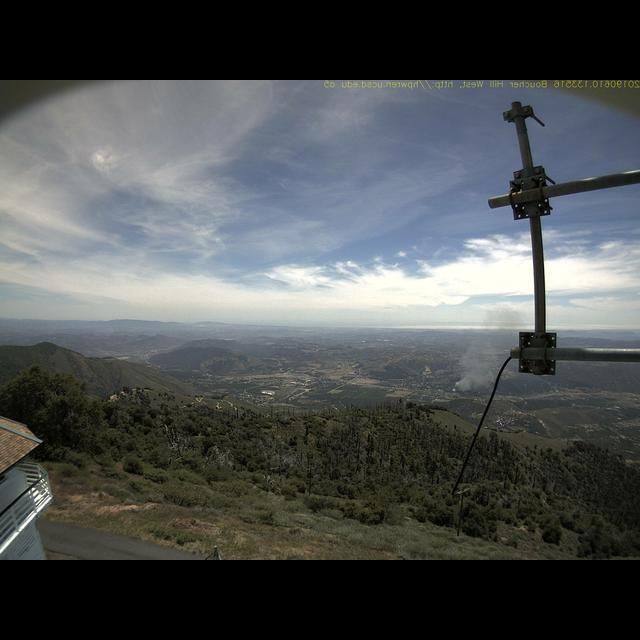Smoke: (450, 309, 517, 395)
